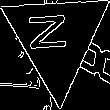N_E: (33, 18, 80, 60)
